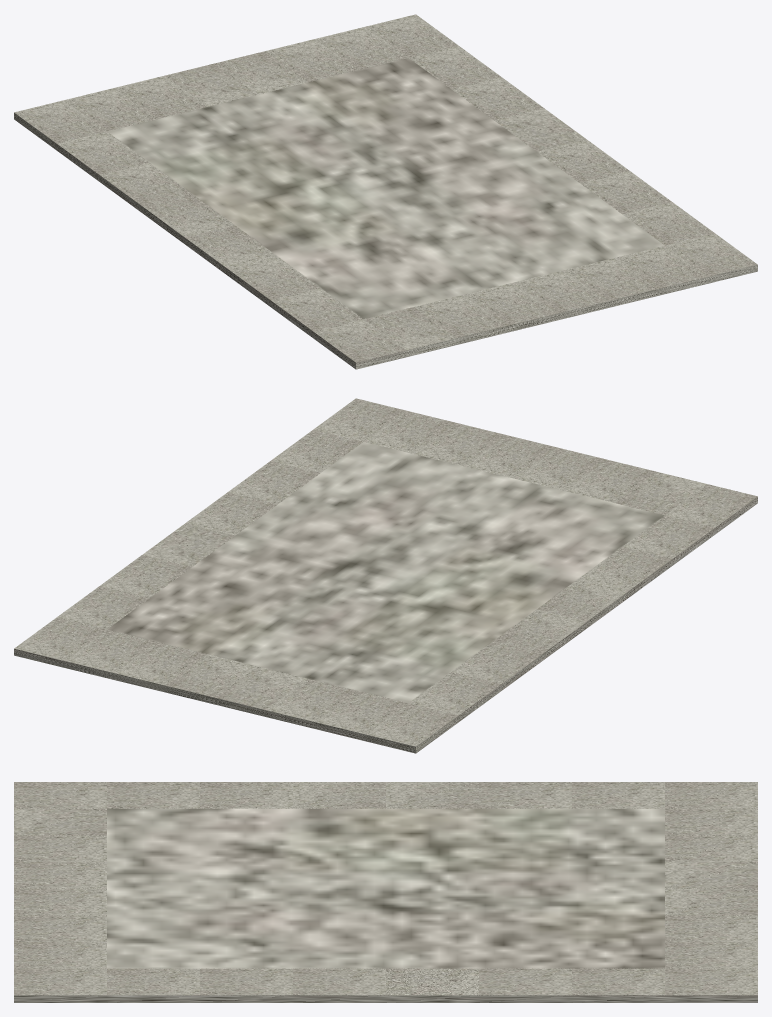
Rendered from Board_Back.fbx.
3 renders of one model, top to bottom at view 1: azimuth 30°, elevation 25°; view 2: azimuth 150°, elevation 25°; view 3: azimuth 270°, elevation 25°, orthographic. The views are drawn at different scales.
Parts seen in each view (by area): view 1: Cube.005; view 2: Cube.005; view 3: Cube.005.
Part boxes in pixels (left/top/right/bottom): Cube.005: left=14, top=14, right=757, bottom=369; Cube.005: left=14, top=398, right=757, bottom=753; Cube.005: left=14, top=782, right=757, bottom=1002.
Bounding box in the file's own units: 3195 × 52.55 × 4708.
